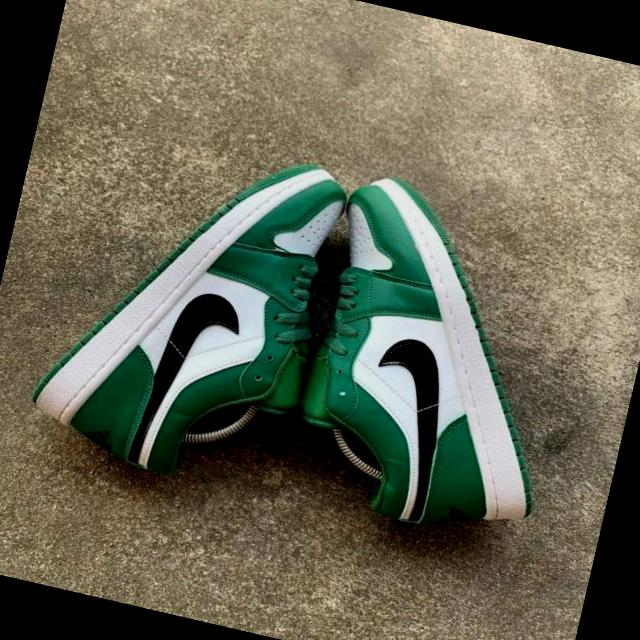nike_fake_jordan: (18, 110, 354, 504), (272, 167, 597, 556)
